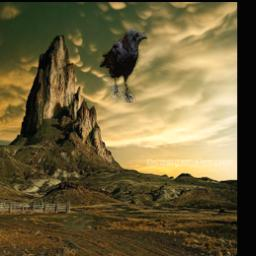Crow: (100, 29, 147, 104)
